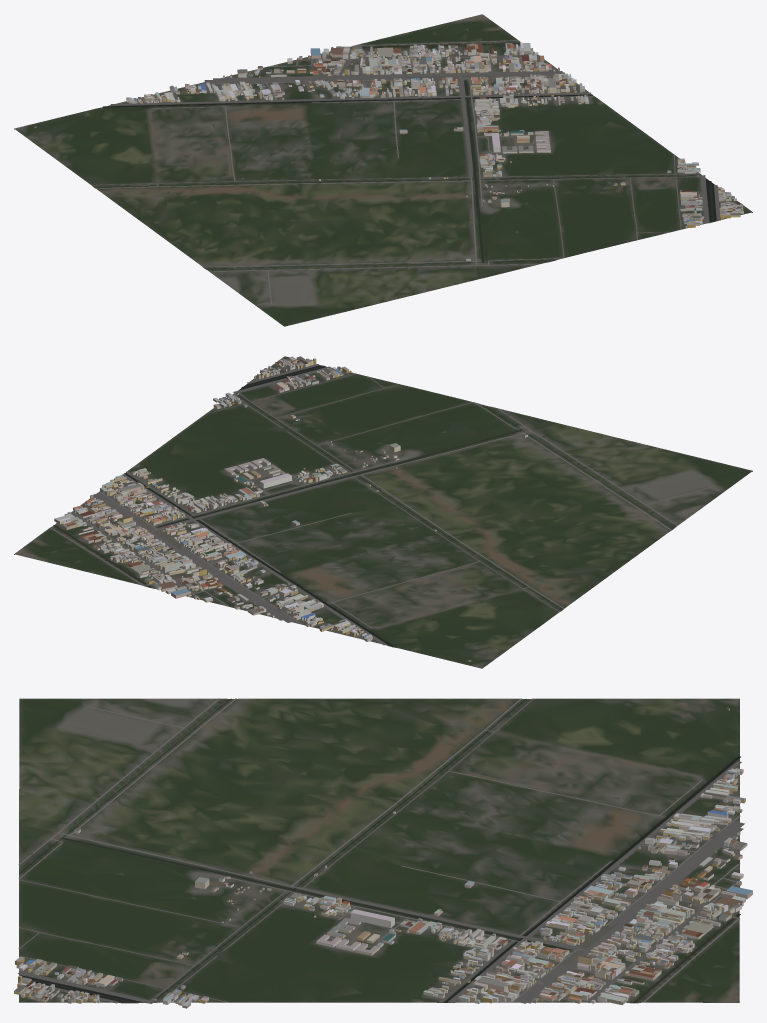
3 renders of one model, top to bottom at view 1: azimuth 30°, elevation 25°; view 2: azimuth 150°, elevation 25°; view 3: azimuth 270°, elevation 25°, orthographic. The views are drawn at different scales.
Visible parts, largest first — view 1: ground, buildings, roads, water; view 2: ground, buildings, roads, water; view 3: ground, buildings, roads, water.
Boxes of the visible parts, x1,y1,x2,y2 form: ground: [14, 14, 752, 326]; buildings: [34, 42, 743, 261]; roads: [91, 40, 723, 304]; water: [94, 43, 716, 268]; ground: [14, 356, 752, 668]; buildings: [54, 356, 527, 661]; roads: [50, 364, 712, 645]; water: [53, 365, 672, 647]; ground: [19, 698, 739, 1003]; buildings: [14, 707, 752, 1008]; roads: [17, 698, 744, 1003]; water: [19, 698, 740, 1003].
Size of the model in its own units: 1427 by 25.93 by 1436.
